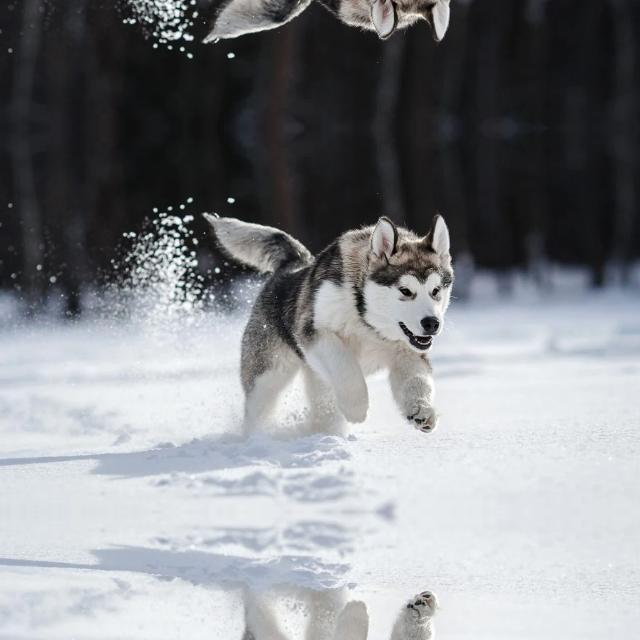dog: (210, 194, 476, 498), (210, 524, 475, 640), (210, 0, 475, 60)
